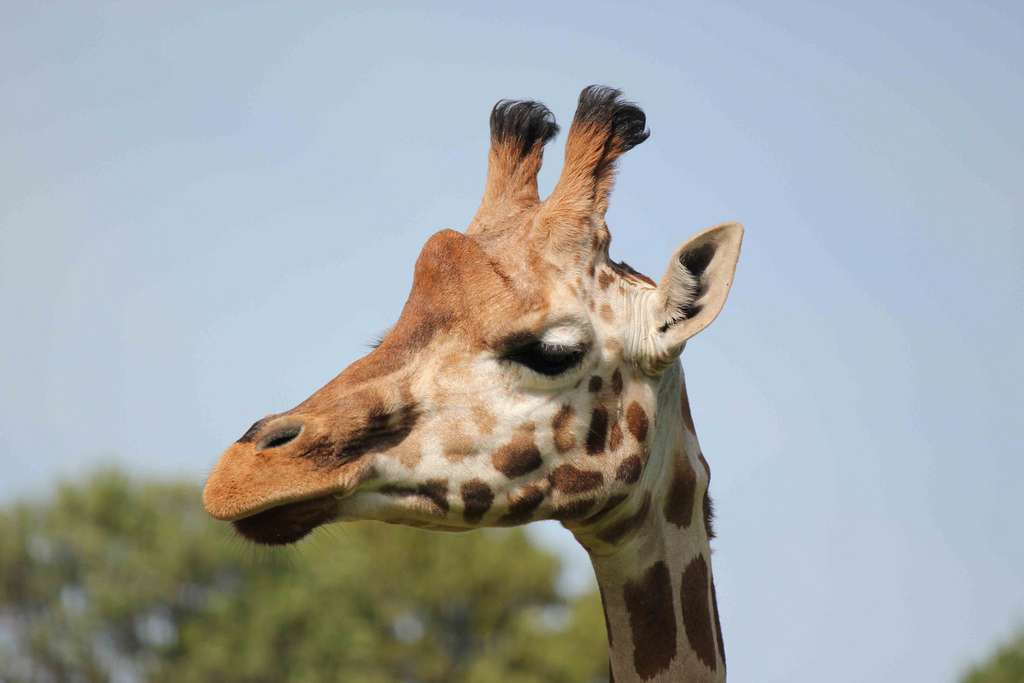giraffe: (172, 46, 814, 642)
